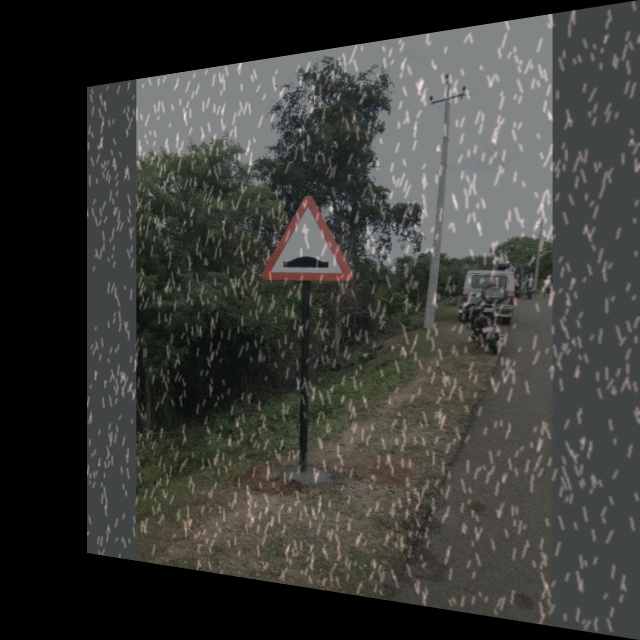Dangerous_Dip: (260, 192, 354, 282)
